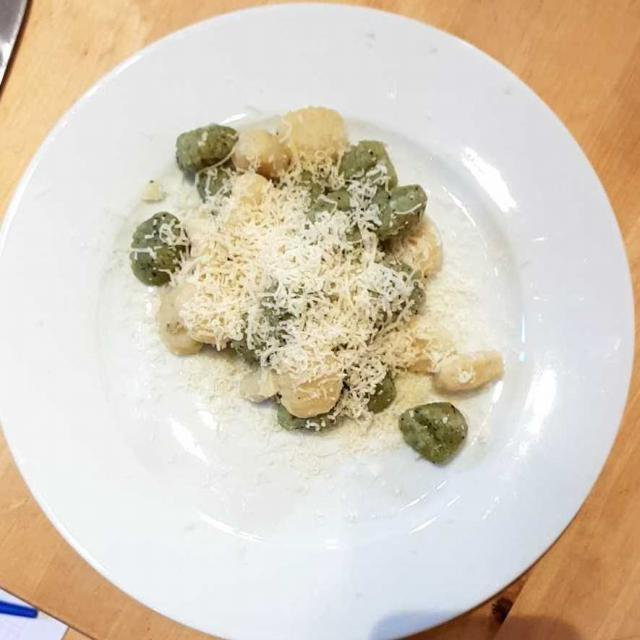cheese: (127, 154, 460, 451)
gnocchi: (129, 114, 497, 475)
